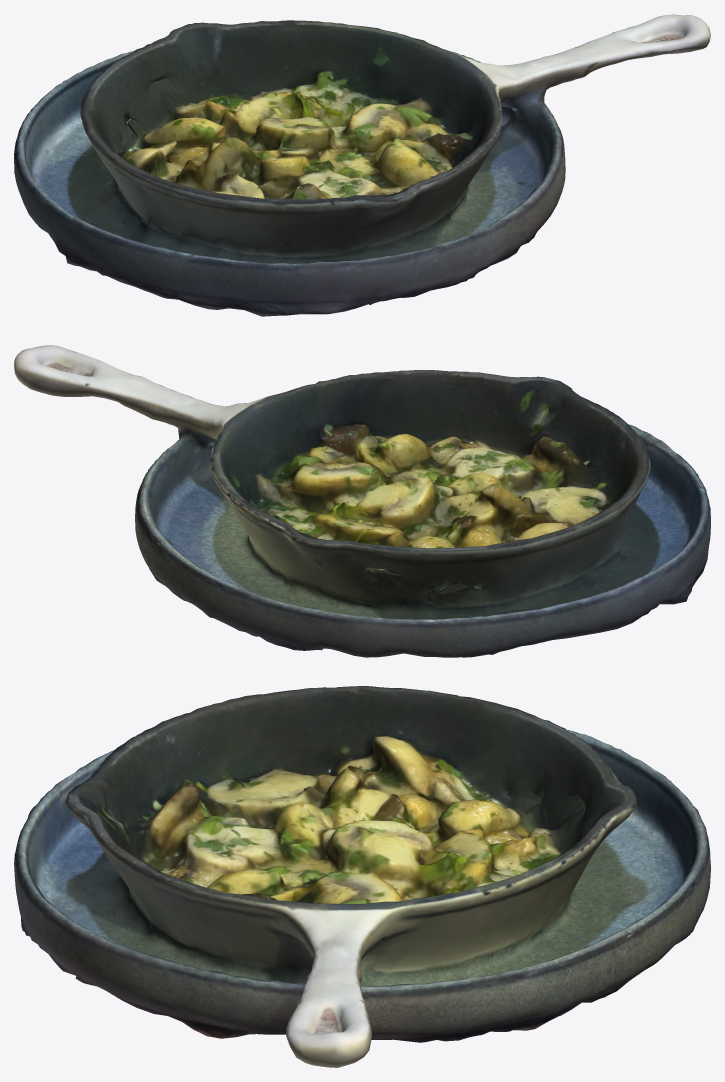
File: champignons-sautes-a-l-ail.ar.glb
3 renders of one model, top to bottom at view 1: azimuth 30°, elevation 25°; view 2: azimuth 150°, elevation 25°; view 3: azimuth 270°, elevation 25°, orthographic. The views are drawn at different scales.
Visible parts, largest first — view 1: /ObjectCapture/Geometry/Mesh; view 2: /ObjectCapture/Geometry/Mesh; view 3: /ObjectCapture/Geometry/Mesh.
Boxes of the visible parts, x1,y1,x2,y2 form: /ObjectCapture/Geometry/Mesh: (14,14,710,316); /ObjectCapture/Geometry/Mesh: (14,345,710,657); /ObjectCapture/Geometry/Mesh: (14,686,710,1067).
Size of the model in its own units: 0.2765 by 0.0412 by 0.2062.
Materials: 1 (1 with a texture image).
